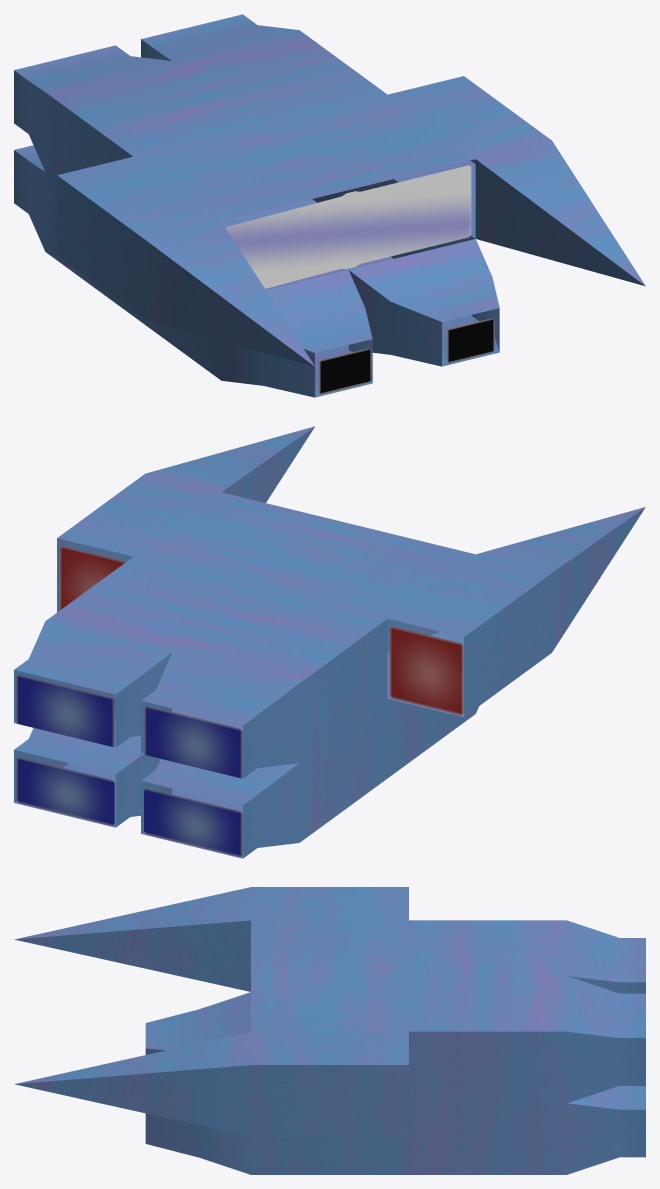
Rendered from EnemyHelper.FBX.
3 renders of one model, top to bottom at view 1: azimuth 30°, elevation 25°; view 2: azimuth 150°, elevation 25°; view 3: azimuth 270°, elevation 25°, orthographic. The views are drawn at different scales.
Visible parts, largest first — view 1: Box001; view 2: Box001; view 3: Box001.
Boxes of the visible parts, x1,y1,x2,y2 form: Box001: (14,14,645,397); Box001: (14,426,645,858); Box001: (14,887,645,1174).
Bounding box in the file's own units: 16 × 6 × 24.
Materials: 1 (1 with a texture image).
